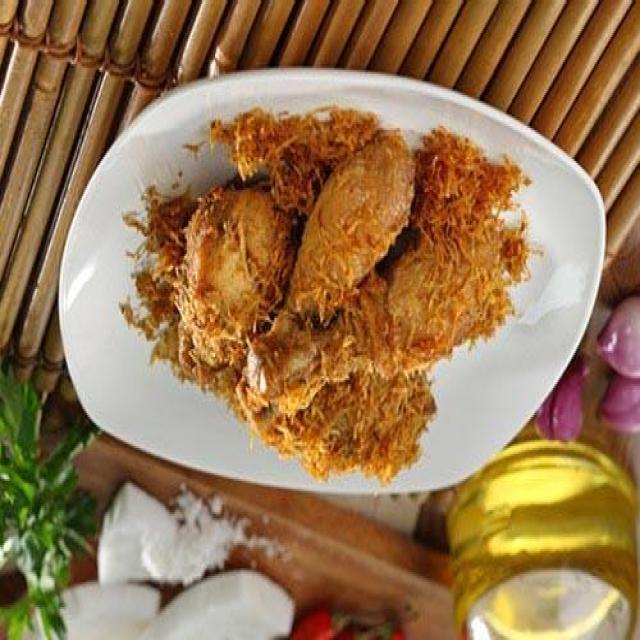ayam_goreng: (115, 114, 552, 478)
